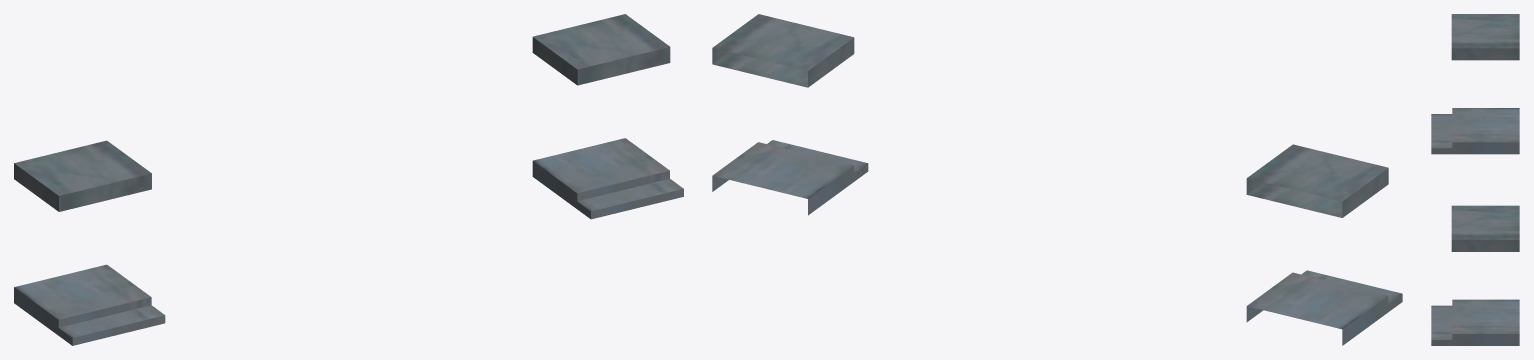
File: cube.003_pionerskaya_4.001_0.001_lev2.glb
3 renders of one model, left to right at view 1: azimuth 30°, elevation 25°; view 2: azimuth 150°, elevation 25°; view 3: azimuth 270°, elevation 25°, orthographic. The views are drawn at different scales.
Parts seen in each view (by area): view 1: cube.003_pionerskaya_4.001_0.001_lev2; view 2: cube.003_pionerskaya_4.001_0.001_lev2; view 3: cube.003_pionerskaya_4.001_0.001_lev2.
Boxes of the visible parts, <box> form: cube.003_pionerskaya_4.001_0.001_lev2: <box>14,14,683,345</box>; cube.003_pionerskaya_4.001_0.001_lev2: <box>712,14,1402,345</box>; cube.003_pionerskaya_4.001_0.001_lev2: <box>1431,14,1519,345</box>.
Size of the model in its own units: 12.3 by 2.69 by 2.04.
1 material, 1 textured.
